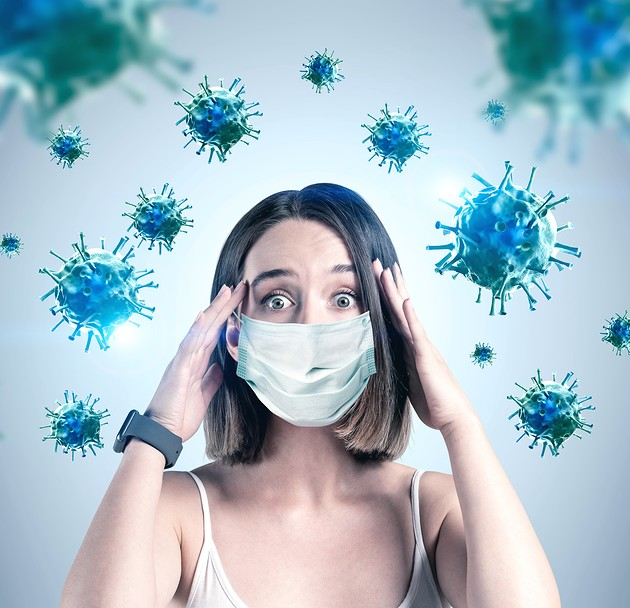with_mask: (211, 184, 421, 459)
